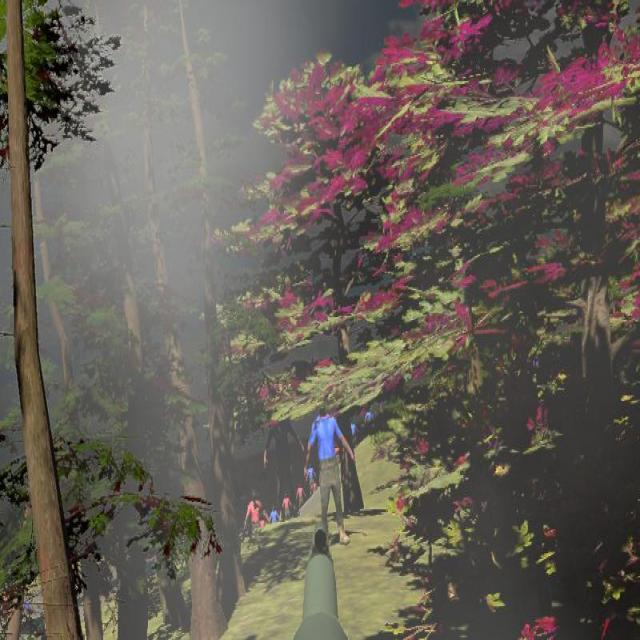Human: (305, 378, 356, 546), (244, 494, 265, 551)
